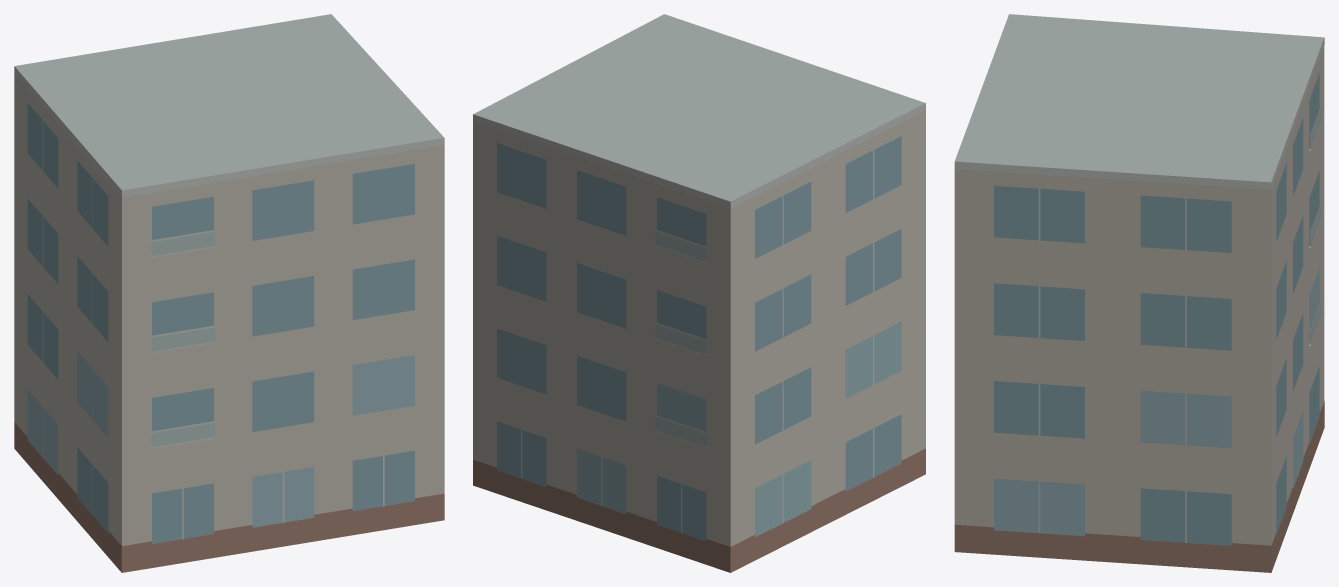
Rendered from survey-upis-32478347.glb.
The picture shows the model from 3 angles, left to right: view 1: azimuth 30°, elevation 25°; view 2: azimuth 150°, elevation 25°; view 3: azimuth 270°, elevation 25°; orthographic projection. The views are drawn at different scales.
Visible parts, largest first — view 1: survey-upis-32478347.tmp; view 2: survey-upis-32478347.tmp; view 3: survey-upis-32478347.tmp.
Part boxes in pixels (box(x1,y1,x2,y2)): survey-upis-32478347.tmp: box(14, 14, 444, 572); survey-upis-32478347.tmp: box(473, 14, 925, 572); survey-upis-32478347.tmp: box(954, 14, 1324, 572).
Bounding box in the file's own units: 11.85 × 12.8 × 11.
